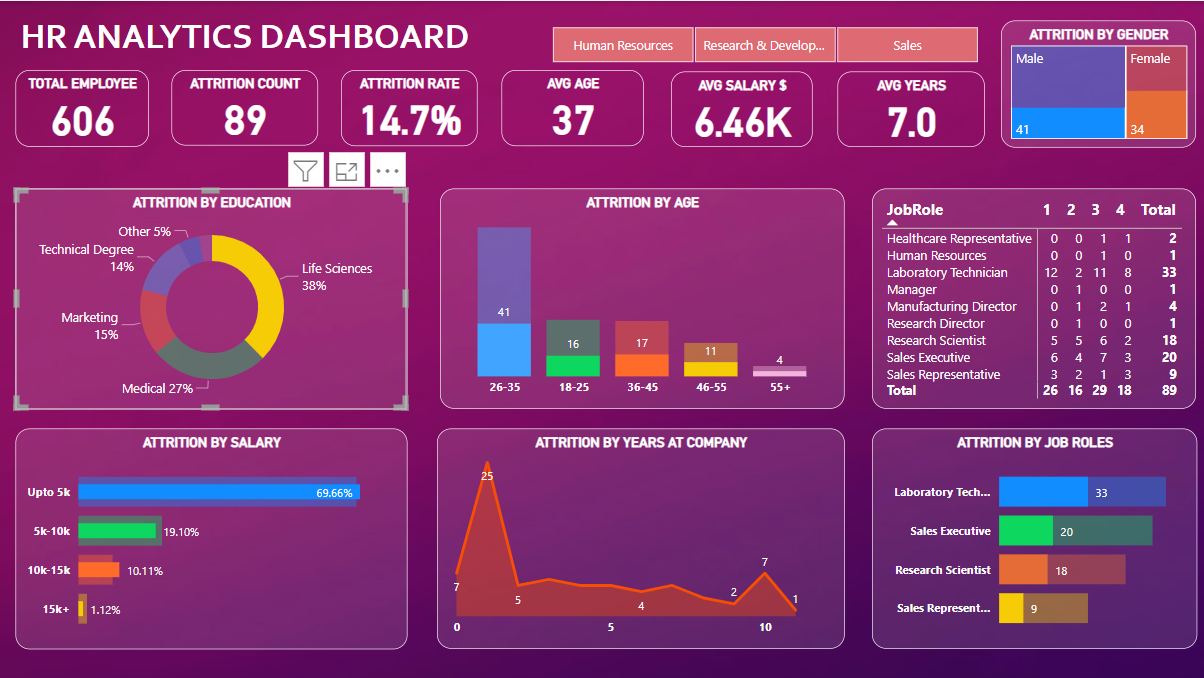

This screenshot's page, from the dashboard's own definition file:
{"tool":"powerbi","page":{"name":"Page 1","canvas":[1280,720],"ordinal":0},"visuals":[{"type":"card","title":"TOTAL EMPLOYEE","fields":{"Values":["CountNonNull(HR_Analytics.EmpID)"]},"box":[17.5,72.5,141.2,81.2],"z":0},{"type":"card","title":"ATTRITION COUNT","fields":{"Values":["Sum(HR_Analytics.AttritionCount)"]},"box":[182.5,73.8,155,80],"z":1000},{"type":"card","title":"ATTRITION RATE","fields":{"Values":["HR_Analytics.Measure"]},"box":[361.9,73,144.4,81],"z":2000},{"type":"card","title":"AVG AGE","fields":{"Values":["Avg(HR_Analytics.Age)"]},"box":[531.7,73,150.8,81],"z":3000},{"type":"card","title":"AVG SALARY $","fields":{"Values":["Avg(HR_Analytics.MonthlyIncome)"]},"box":[712.8,74.4,150.3,80.2],"z":4000},{"type":"card","title":"AVG YEARS ","fields":{"Values":["Avg(HR_Analytics.YearsAtCompany)"]},"box":[888.9,74.4,156,80.2],"z":5000},{"type":"donutChart","title":"ATTRITION BY EDUCATION","fields":{"Category":["HR_Analytics.EducationField"],"Y":["Sum(HR_Analytics.AttritionCount)"]},"box":[17.5,198.8,415,233.8],"z":6000},{"type":"columnChart","title":"ATTRITION BY AGE","fields":{"Category":["HR_Analytics.AgeGroup"],"Y":["Sum(HR_Analytics.AttritionCount)"]},"box":[466.7,198.4,428.6,233.3],"z":7000},{"type":"pivotTable","fields":{"Rows":["HR_Analytics.JobRole"],"Columns":["HR_Analytics.JobSatisfaction"],"Values":["Sum(HR_Analytics.AttritionCount)"]},"box":[924.7,199,343.5,233.3],"z":8000},{"type":"clusteredBarChart","title":"ATTRITION BY SALARY","fields":{"Category":["HR_Analytics.SalarySlab"],"Y":["Sum(HR_Analytics.AttritionCount)"]},"box":[17.5,452.5,415,233.8],"z":9000},{"type":"clusteredBarChart","title":"ATTRITION BY JOB ROLES","fields":{"Category":["HR_Analytics.JobRole"],"Y":["Sum(HR_Analytics.AttritionCount)"]},"box":[925.4,452.4,344.4,233.3],"z":10000},{"type":"areaChart","title":"ATTRITION BY YEARS AT COMPANY","fields":{"Category":["HR_Analytics.YearsAtCompany"],"Y":["Sum(HR_Analytics.AttritionCount)"]},"box":[463.5,452.4,431.7,233.3],"z":11000},{"type":"treemap","title":"ATTRITION BY GENDER","fields":{"Group":["HR_Analytics.Gender"],"Values":["Sum(HR_Analytics.AttritionCount)"]},"box":[1061.9,20.6,206.3,134.9],"z":12000},{"type":"slicer","title":"DEPARTMENTS","fields":{"Values":["HR_Analytics.Department"]},"box":[561.2,21.2,500,51.2],"z":13000},{"type":"textbox","box":[0,10,521.2,57.5],"z":14000}]}

Visuals, with their boxes in screenshot pixels (x1, y1, x2, y2), scaled from the page's 1280x720 canvas onto the 1204x678 screenshot:
"TOTAL EMPLOYEE" card: bbox=(16, 68, 149, 145)
"ATTRITION COUNT" card: bbox=(172, 69, 317, 145)
"ATTRITION RATE" card: bbox=(340, 69, 476, 145)
"AVG AGE" card: bbox=(500, 69, 642, 145)
"AVG SALARY $" card: bbox=(670, 70, 812, 146)
"AVG YEARS " card: bbox=(836, 70, 983, 146)
"ATTRITION BY EDUCATION" donutChart: bbox=(16, 187, 407, 407)
"ATTRITION BY AGE" columnChart: bbox=(439, 187, 842, 407)
pivotTable - HR_Analytics.JobRole x HR_Analytics.JobSatisfaction: bbox=(870, 187, 1193, 407)
"ATTRITION BY SALARY" clusteredBarChart: bbox=(16, 426, 407, 646)
"ATTRITION BY JOB ROLES" clusteredBarChart: bbox=(870, 426, 1194, 646)
"ATTRITION BY YEARS AT COMPANY" areaChart: bbox=(436, 426, 842, 646)
"ATTRITION BY GENDER" treemap: bbox=(999, 19, 1193, 146)
"DEPARTMENTS" slicer: bbox=(528, 20, 998, 68)
textbox: bbox=(0, 9, 490, 64)
